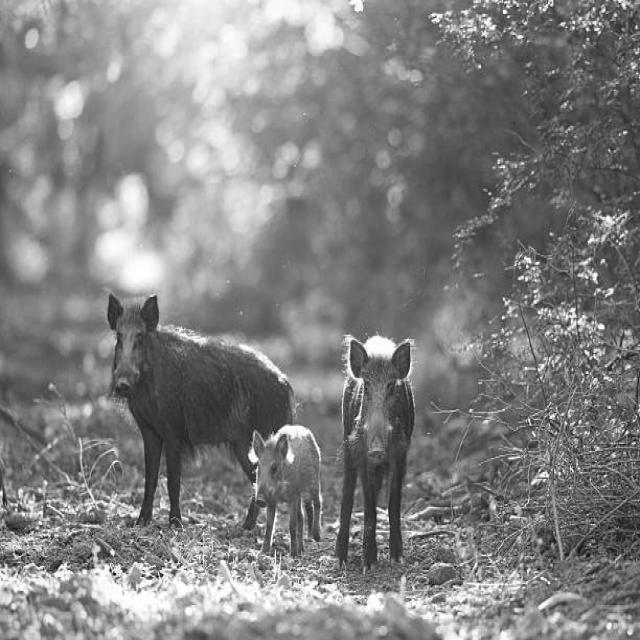boar: (107, 293, 293, 524), (335, 335, 413, 571), (253, 426, 321, 557)
